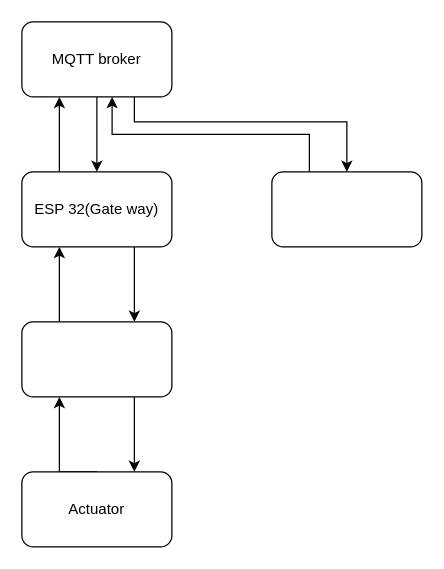
Some shapes in this 444 by 569 pixel diagram are drawn without their labels. The centre of each missing label's shape, as x and y in pixels:
"HMI" belongs at pixel 346 209.
"PLC" belongs at pixel 96 359.
